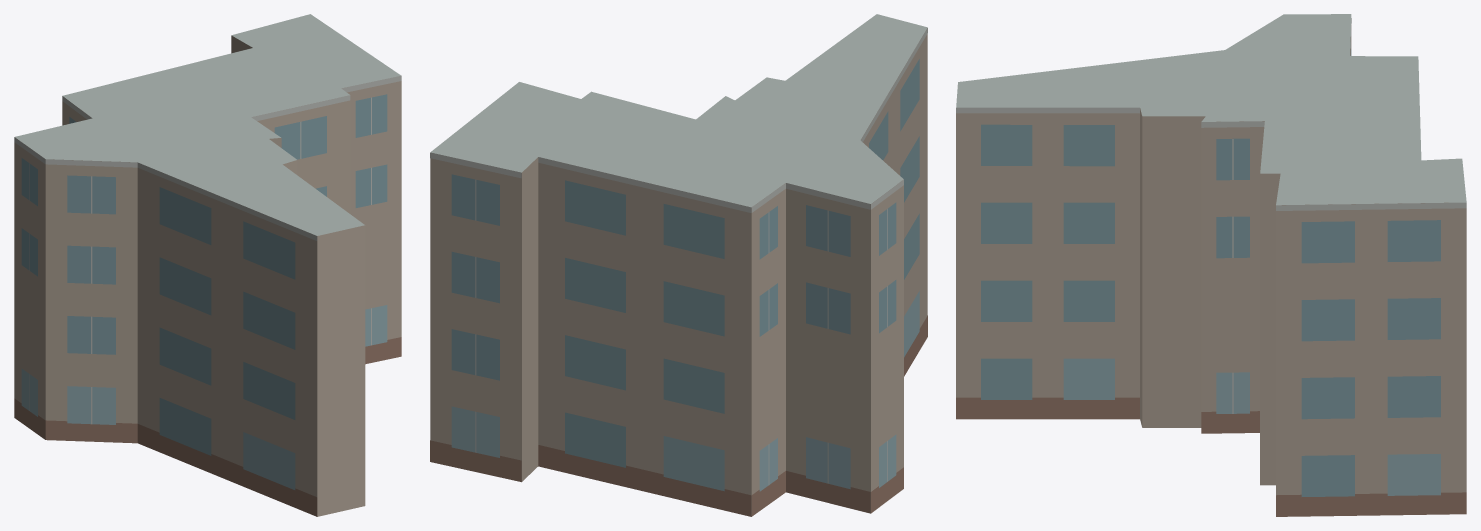
Rendered from survey-upis-32877084.glb.
3 renders of one model, left to right at view 1: azimuth 30°, elevation 25°; view 2: azimuth 150°, elevation 25°; view 3: azimuth 270°, elevation 25°, orthographic. The views are drawn at different scales.
Parts seen in each view (by area): view 1: survey-upis-32877084.tmp; view 2: survey-upis-32877084.tmp; view 3: survey-upis-32877084.tmp.
Part boxes in pixels (left/top/right/bottom): survey-upis-32877084.tmp: left=14, top=14, right=401, bottom=516; survey-upis-32877084.tmp: left=430, top=14, right=927, bottom=516; survey-upis-32877084.tmp: left=956, top=14, right=1466, bottom=516.
Bounding box in the file's own units: 17.11 × 13 × 19.3.
